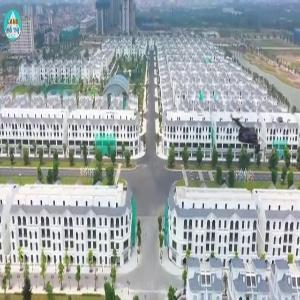drone: (221, 106, 283, 168)
